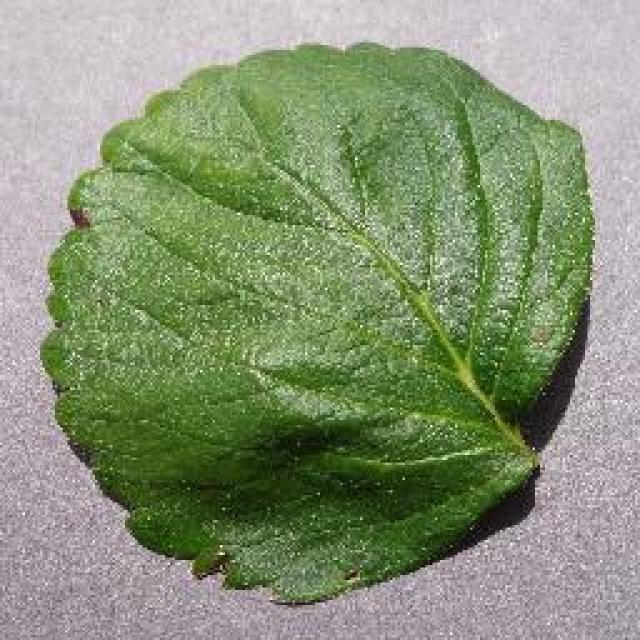Strawberry___healthy: (25, 22, 607, 632)
